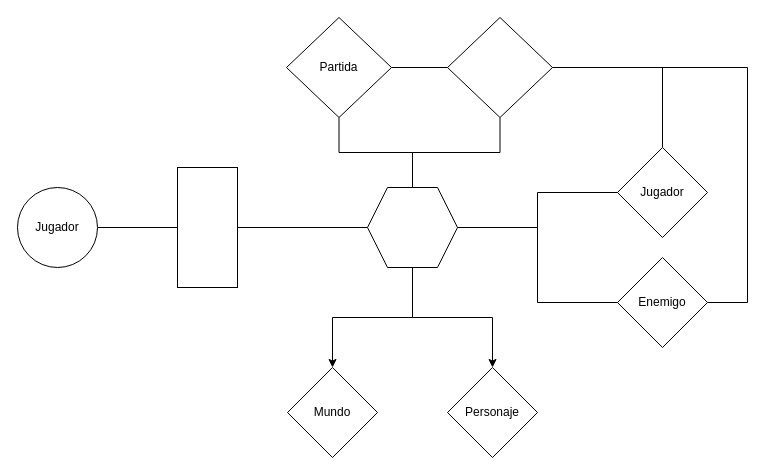
Some shapes in this 766 by 475 pixel diagram are drawn without their labels. Each missing label, with the centre of its shape:
Game Facade: the point at 412,227
Turno: the point at 499,67
UI (Terminal): the point at 207,227
